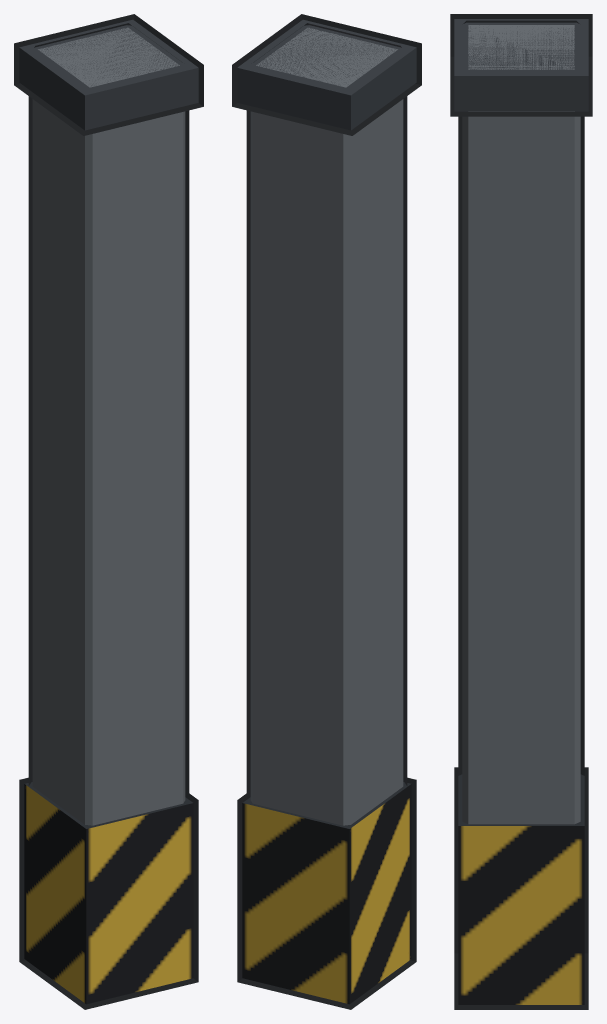
The model's file is SM_WallPost.glb.
3 renders of one model, left to right at view 1: azimuth 30°, elevation 25°; view 2: azimuth 150°, elevation 25°; view 3: azimuth 270°, elevation 25°, orthographic. The views are drawn at different scales.
Parts seen in each view (by area): view 1: SM_WallPost, SM_WallPost_Outline; view 2: SM_WallPost, SM_WallPost_Outline; view 3: SM_WallPost, SM_WallPost_Outline.
Part boxes in pixels (left/top/right/bottom): SM_WallPost: left=19, top=19, right=198, bottom=1004; SM_WallPost_Outline: left=14, top=14, right=203, bottom=1009; SM_WallPost: left=237, top=19, right=416, bottom=1004; SM_WallPost_Outline: left=232, top=14, right=421, bottom=1009; SM_WallPost: left=454, top=19, right=588, bottom=1004; SM_WallPost_Outline: left=450, top=14, right=592, bottom=1009.
Bounding box in the file's own units: 0.7192 × 5.24 × 0.7192.
Materials: 2 (1 with a texture image).
